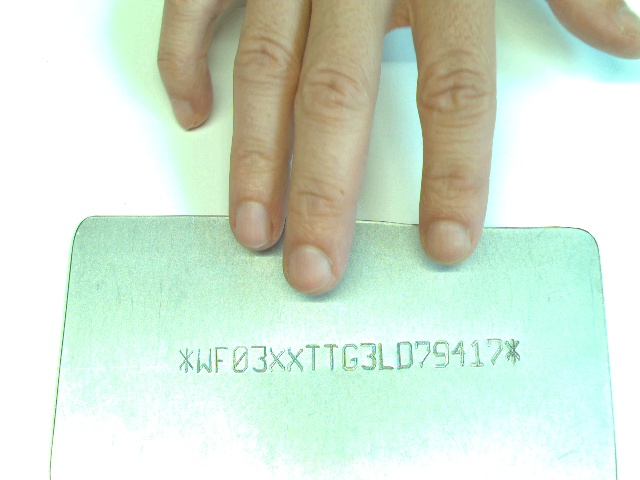0: (232, 344, 251, 374)
1: (470, 339, 487, 369)
3: (250, 343, 268, 373), (360, 340, 377, 371)
4: (452, 339, 469, 368)
7: (487, 337, 505, 369), (415, 338, 432, 368)
9: (432, 339, 452, 370)
d: (397, 340, 415, 370)
f: (213, 346, 229, 375)
g: (343, 343, 359, 372)
l: (376, 341, 395, 371)
t: (302, 343, 322, 371), (321, 342, 340, 370)
w: (194, 344, 214, 374)
x: (268, 345, 285, 372), (285, 346, 303, 370)
